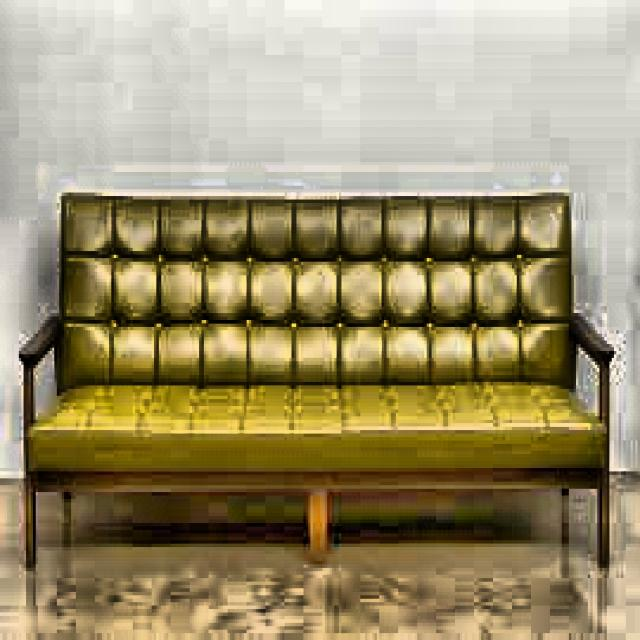sofa: (28, 179, 614, 575)
